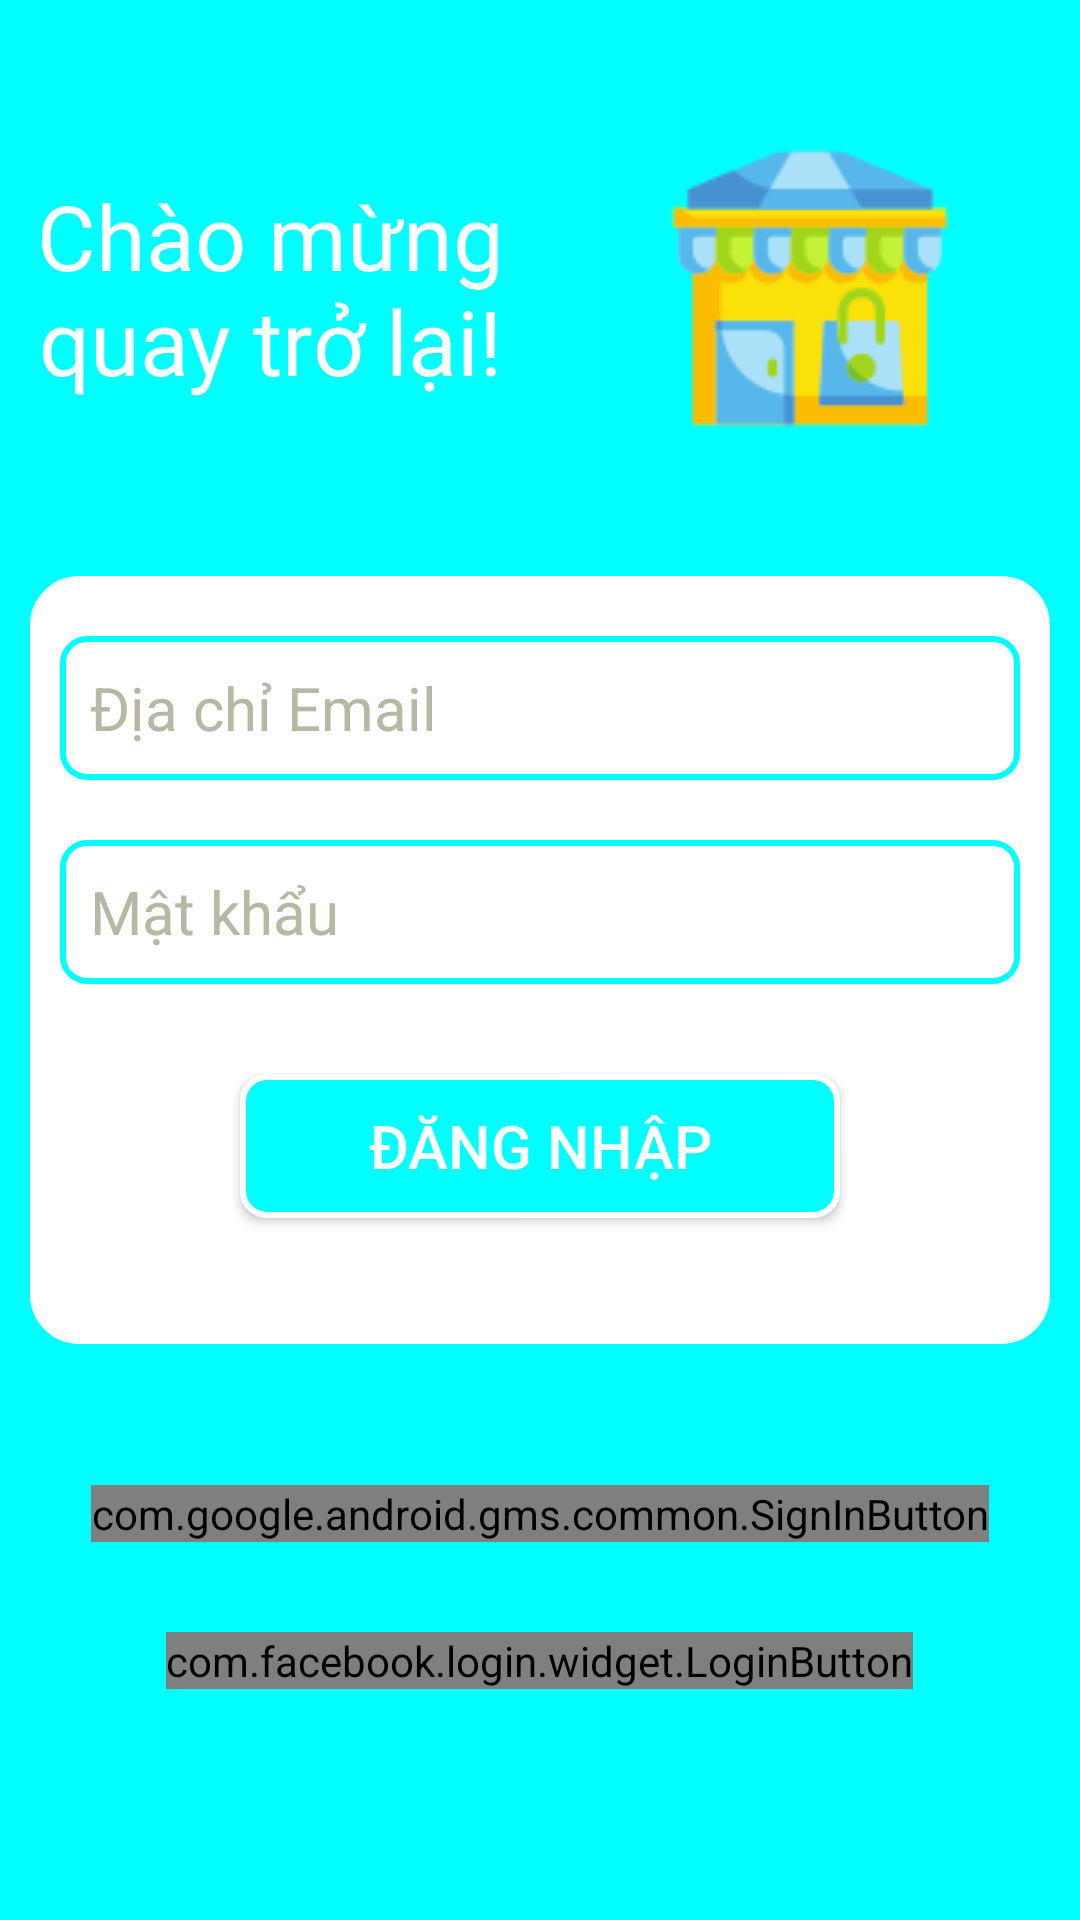

Named icons in this screenshot (1080w x 1920h) and their centers, (x,y):
store: (810,288)
